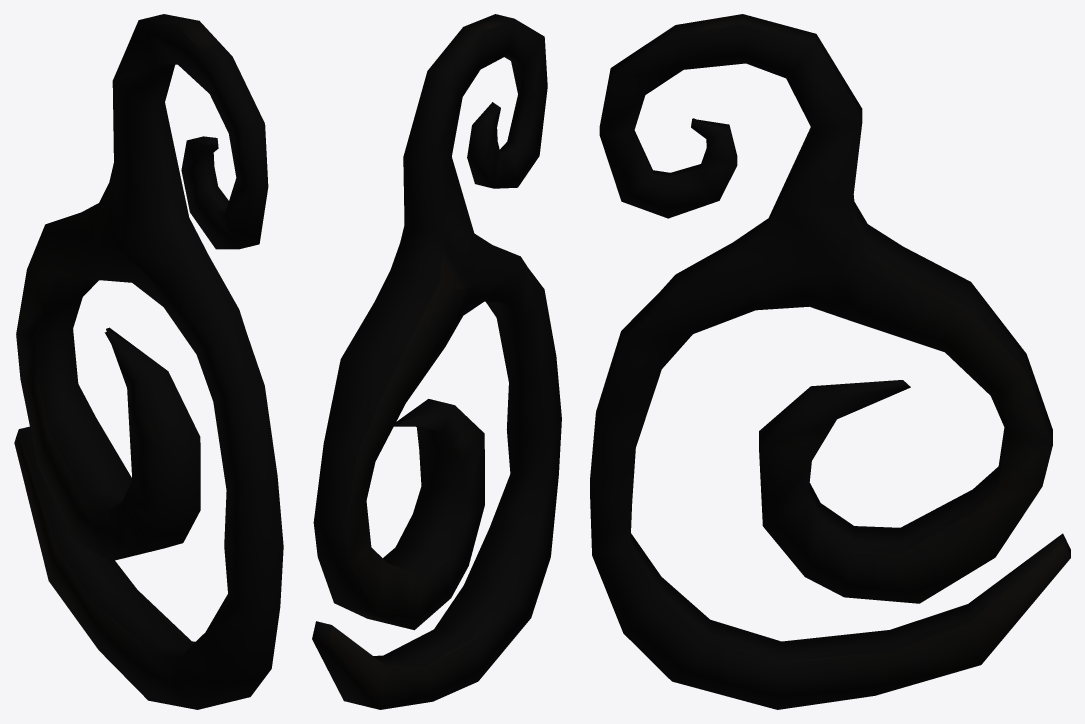
The picture shows the model from 3 angles, left to right: view 1: azimuth 30°, elevation 25°; view 2: azimuth 150°, elevation 25°; view 3: azimuth 270°, elevation 25°; orthographic projection. The views are drawn at different scales.
Visible parts, largest first — view 1: Cube; view 2: Cube; view 3: Cube.
Part boxes in pixels (bbox=[...]): Cube: bbox=[14, 14, 283, 709]; Cube: bbox=[312, 14, 561, 709]; Cube: bbox=[590, 14, 1070, 709].
Size of the model in its own units: 0.3583 by 3.55 by 2.28.
1 material, 1 textured.
